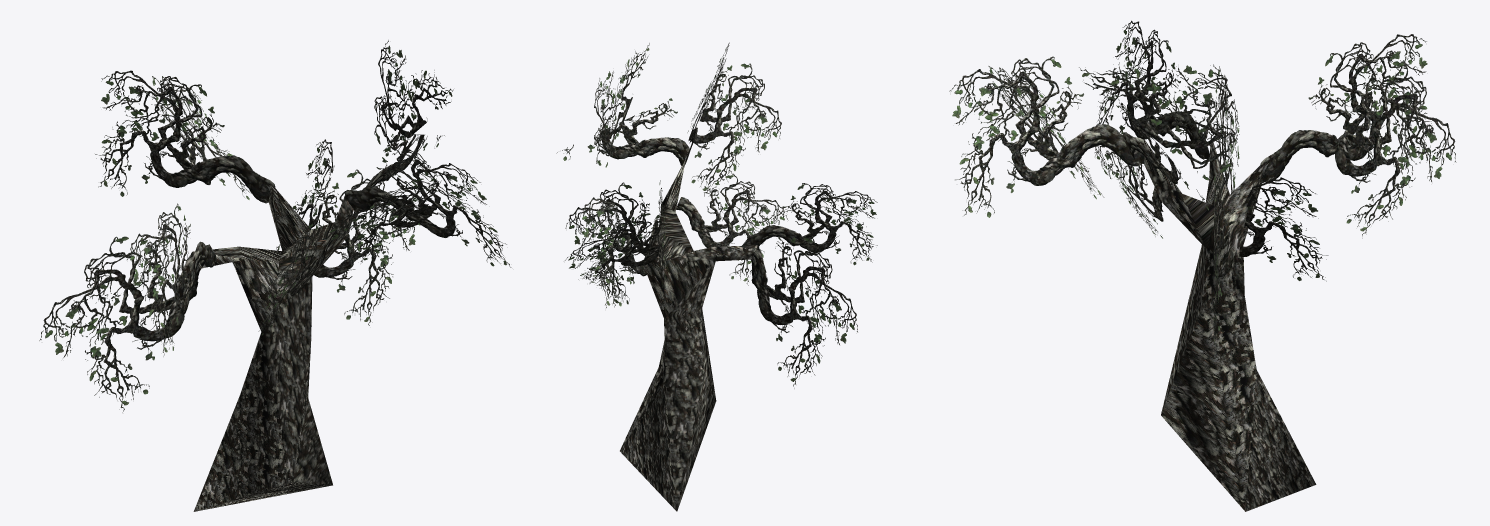
File: decd_dath_azerontree_l3.fbx
3 views of the same model, side by side, from view 1: azimuth 30°, elevation 25°; view 2: azimuth 150°, elevation 25°; view 3: azimuth 270°, elevation 25° (orthographic). The views are drawn at different scales.
Visible parts, largest first — view 1: mesh_node; view 2: mesh_node; view 3: mesh_node.
Part boxes in pixels (x1,y1,x2,y2): mesh_node: (39, 40, 511, 511); mesh_node: (556, 42, 877, 511); mesh_node: (949, 20, 1456, 511).
Bounding box in the file's own units: 24.37 × 27.07 × 26.09.
2 materials, 2 textured.
